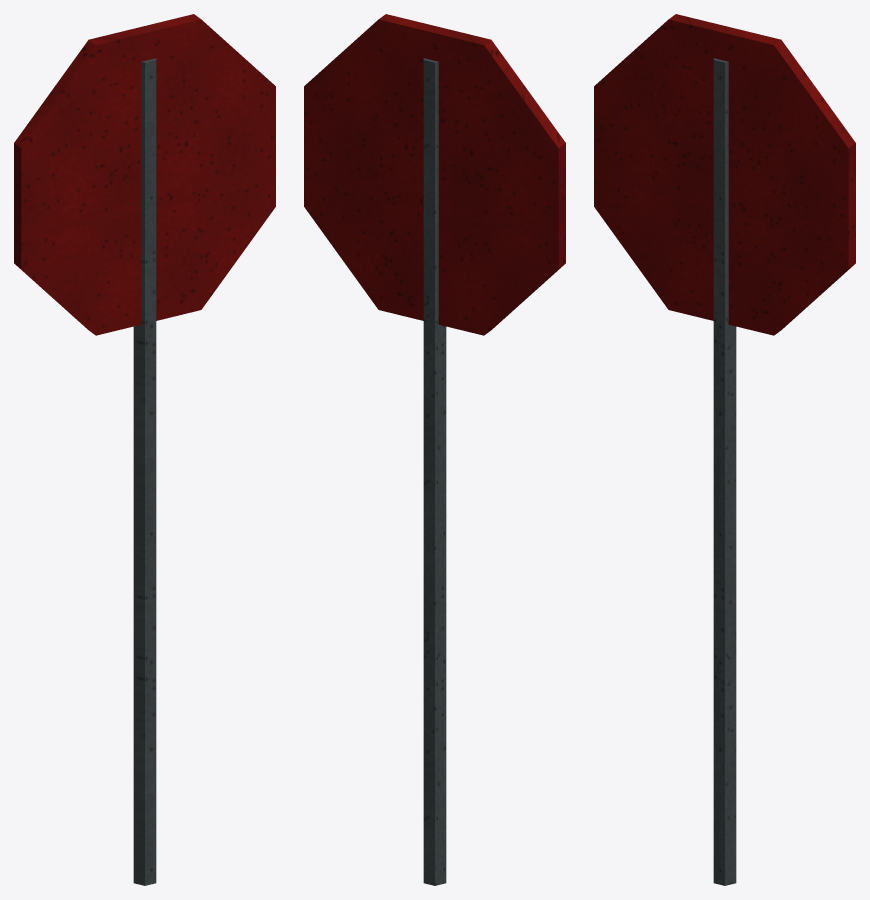
File: PROP-FA0FFFDCB22C_lod2.glb
3 renders of one model, left to right at view 1: azimuth 30°, elevation 25°; view 2: azimuth 150°, elevation 25°; view 3: azimuth 330°, elevation 25°, orthographic.
Visible parts, largest first — view 1: shaped_sign_plate.008, sign_post.030; view 2: shaped_sign_plate.008, sign_post.030; view 3: shaped_sign_plate.008, sign_post.030.
Boxes of the visible parts, <box> form: shaped_sign_plate.008: <box>14,14,275,335</box>; sign_post.030: <box>133,58,156,885</box>; shaped_sign_plate.008: <box>304,14,565,335</box>; sign_post.030: <box>423,58,446,885</box>; shaped_sign_plate.008: <box>594,14,855,335</box>; sign_post.030: <box>713,58,736,885</box>.
Size of the model in its own units: 0.7927 by 2.53 by 0.0606.
Materials: 2 (2 with a texture image).
